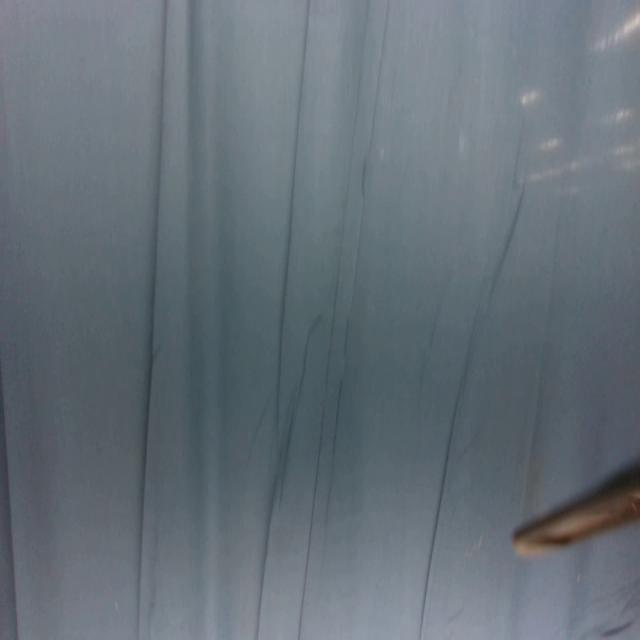crease: (298, 3, 392, 634), (134, 0, 168, 630), (420, 304, 479, 640), (275, 2, 311, 440), (488, 180, 528, 300), (254, 458, 280, 639), (297, 319, 313, 398)
